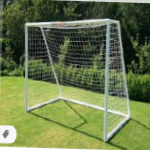goals: (23, 17, 133, 142)
